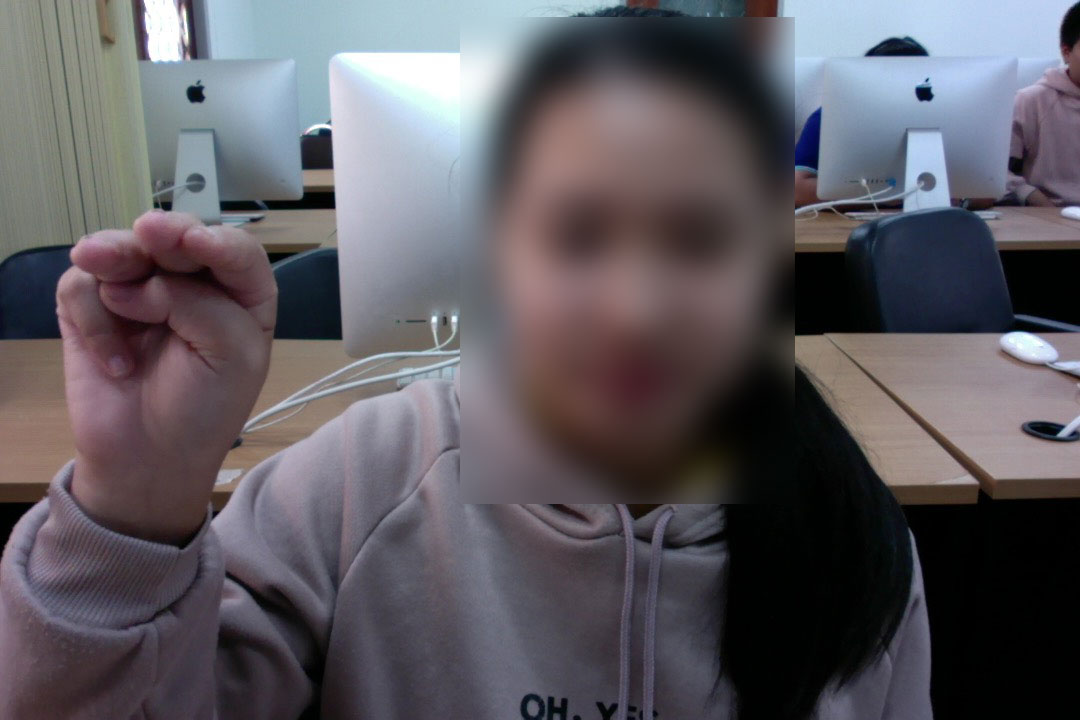mor: (41, 202, 287, 494)
